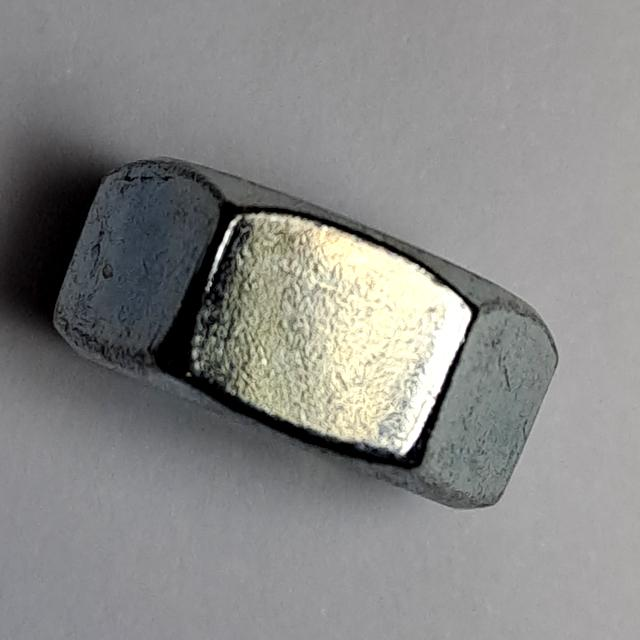Side_Excellent: (49, 145, 569, 525)
